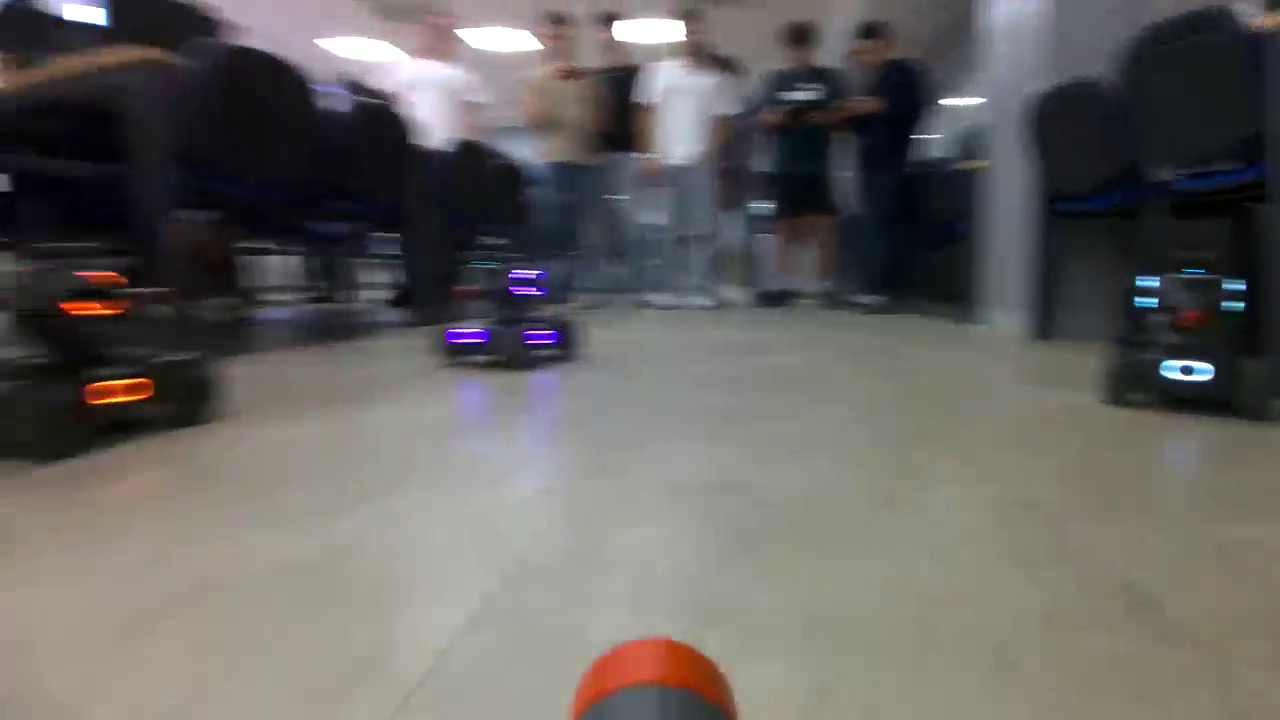robot: (1, 258, 215, 468), (1104, 249, 1280, 422), (443, 246, 575, 369)
